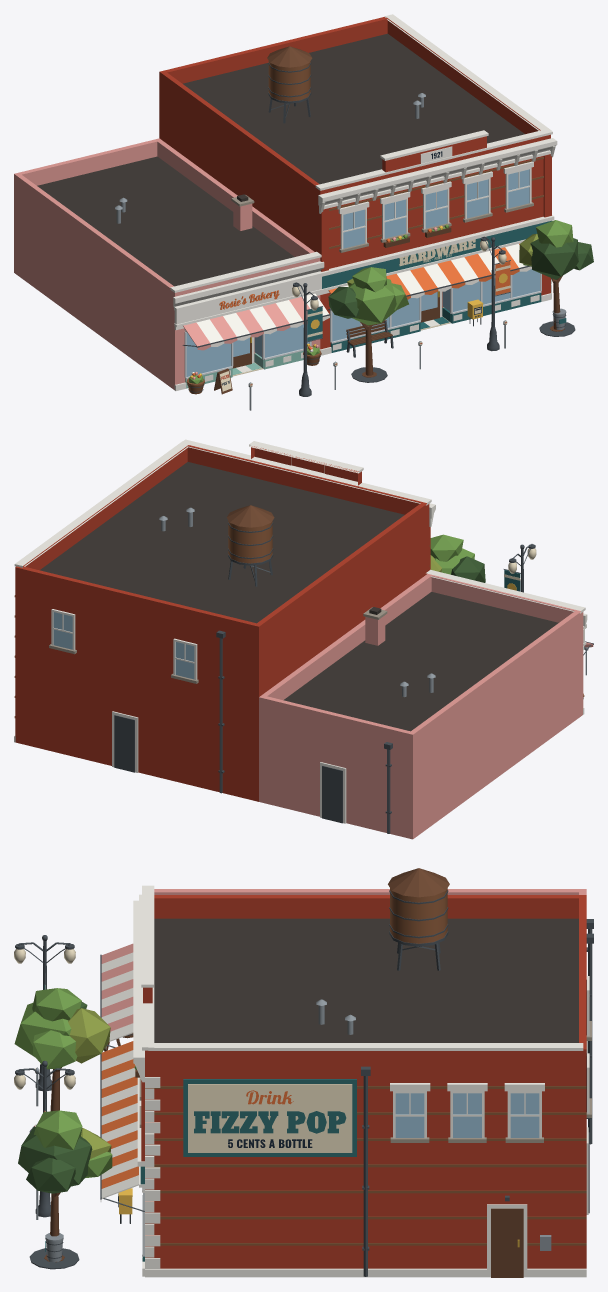
The model's file is Lobby_BlockHardware.fbx.
3 views of the same model, one above another, from view 1: azimuth 30°, elevation 25°; view 2: azimuth 150°, elevation 25°; view 3: azimuth 270°, elevation 25° (orthographic). The views are drawn at different scales.
Visible parts, largest first — view 1: Decor, DecorGlassSkyblue, DecorGlassSkyblue__, Decor_, DecorGlassSkyblue_; view 2: Decor, DecorGlassSkyblue__; view 3: Decor, DecorGlassSkyblue__, DecorNeonCream.
Part boxes in pixels (left/top/right/bottom): Decor: left=14, top=14, right=593, bottom=410; DecorGlassSkyblue: left=186, top=269, right=539, bottom=376; DecorGlassSkyblue__: left=343, top=169, right=529, bottom=248; Decor_: left=197, top=266, right=531, bottom=350; DecorGlassSkyblue_: left=233, top=292, right=437, bottom=356; Decor: left=14, top=439, right=593, bottom=839; DecorGlassSkyblue__: left=53, top=612, right=194, bottom=679; Decor: left=14, top=868, right=593, bottom=1277; DecorGlassSkyblue__: left=395, top=1093, right=539, bottom=1137; DecorNeonCream: left=14, top=949, right=75, bottom=1089.
Size of the model in its own units: 63.39 by 34.53 by 60.37.
